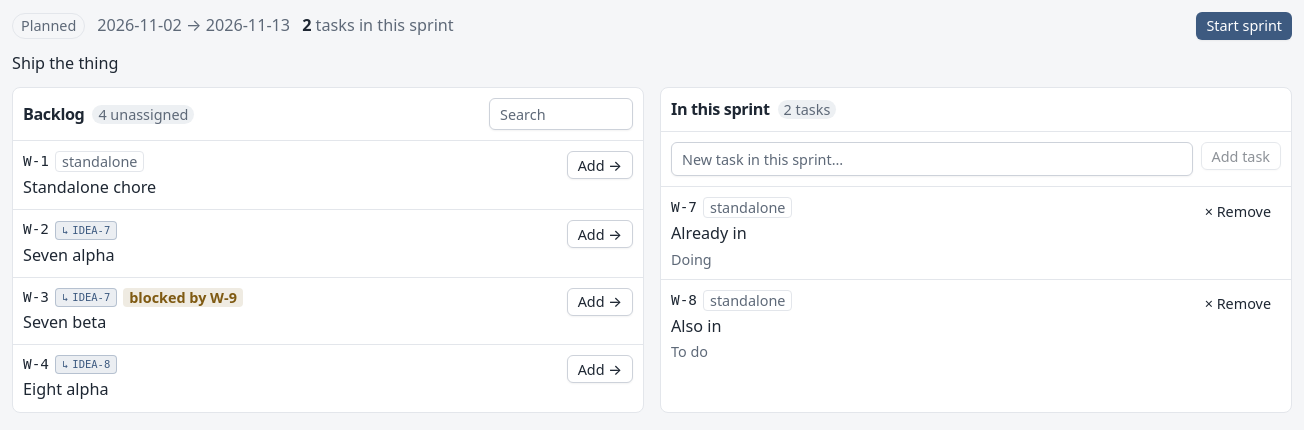
Test case: sprint planning columns › leaves the sprint column alone when searching
Step 1. Type "zzz" into the field named "Search the Backlog" → (561, 114), box [489,98,633,130]
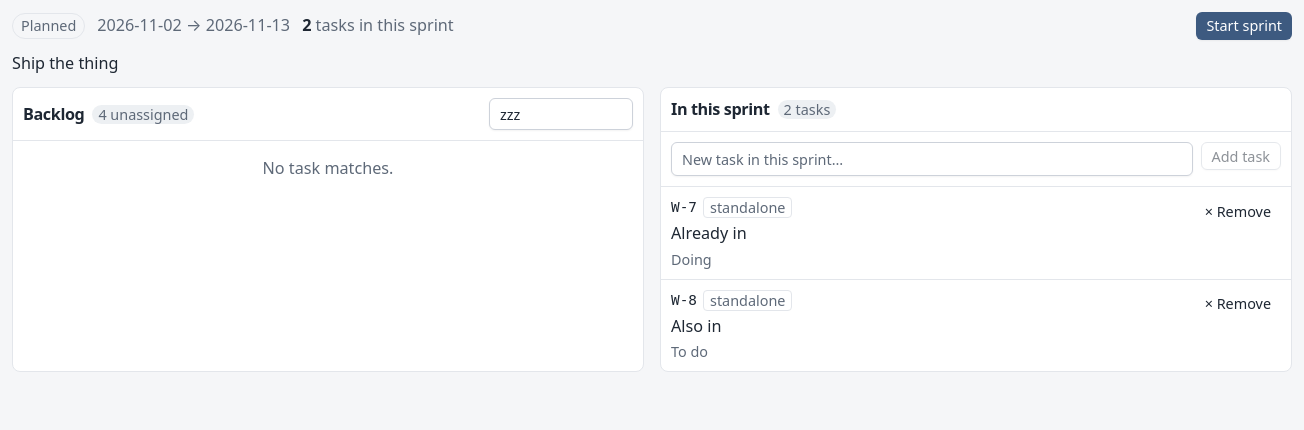
Expected: the number of list items is 2, [661,187,1291,280]; [661,280,1291,371]
